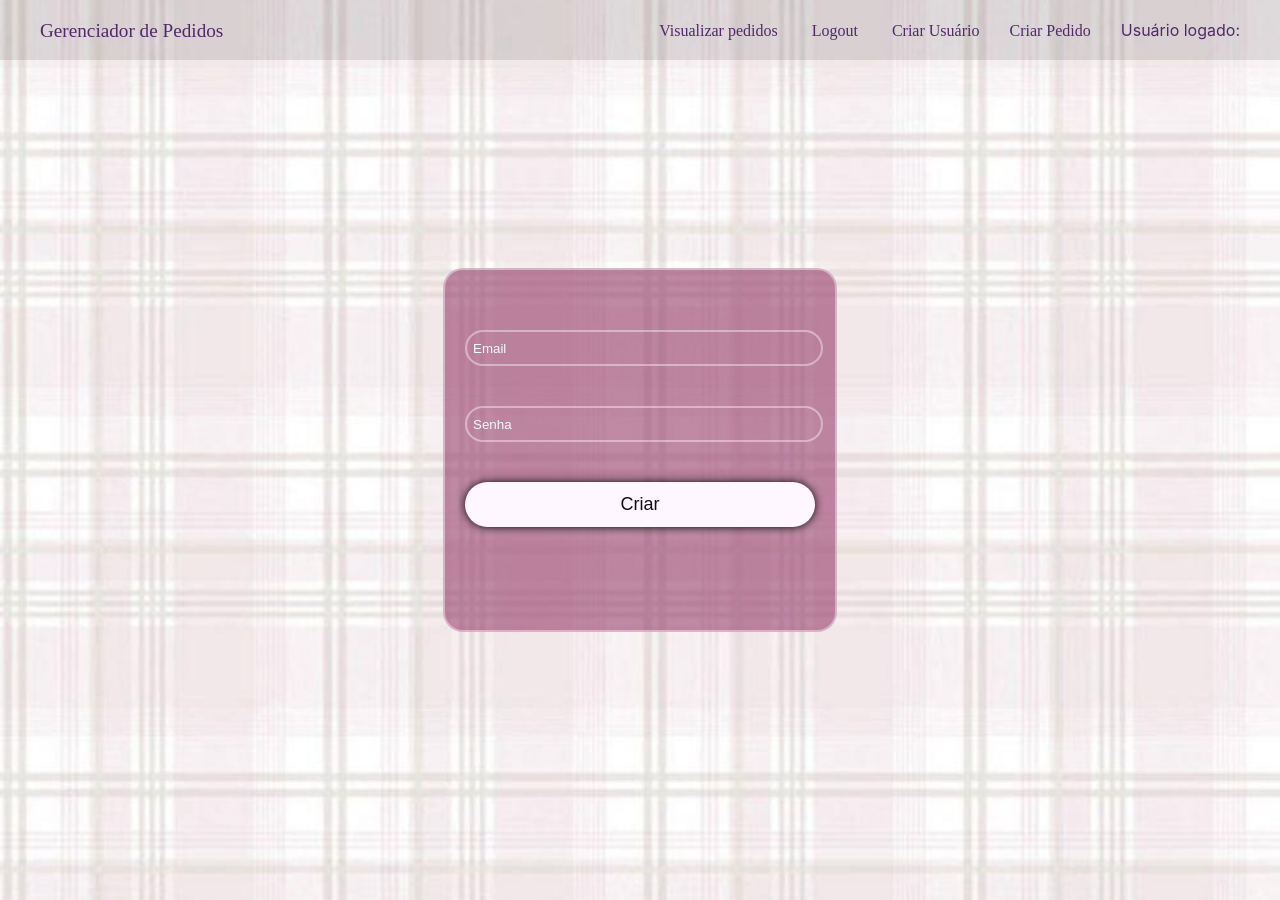
Test: LoginFormRendering › Testa a Submissão do formulário com senha incorreta
Type "teste@teste.com" into the field with placeholder "Email" at (644, 348), box [465,330,823,366]
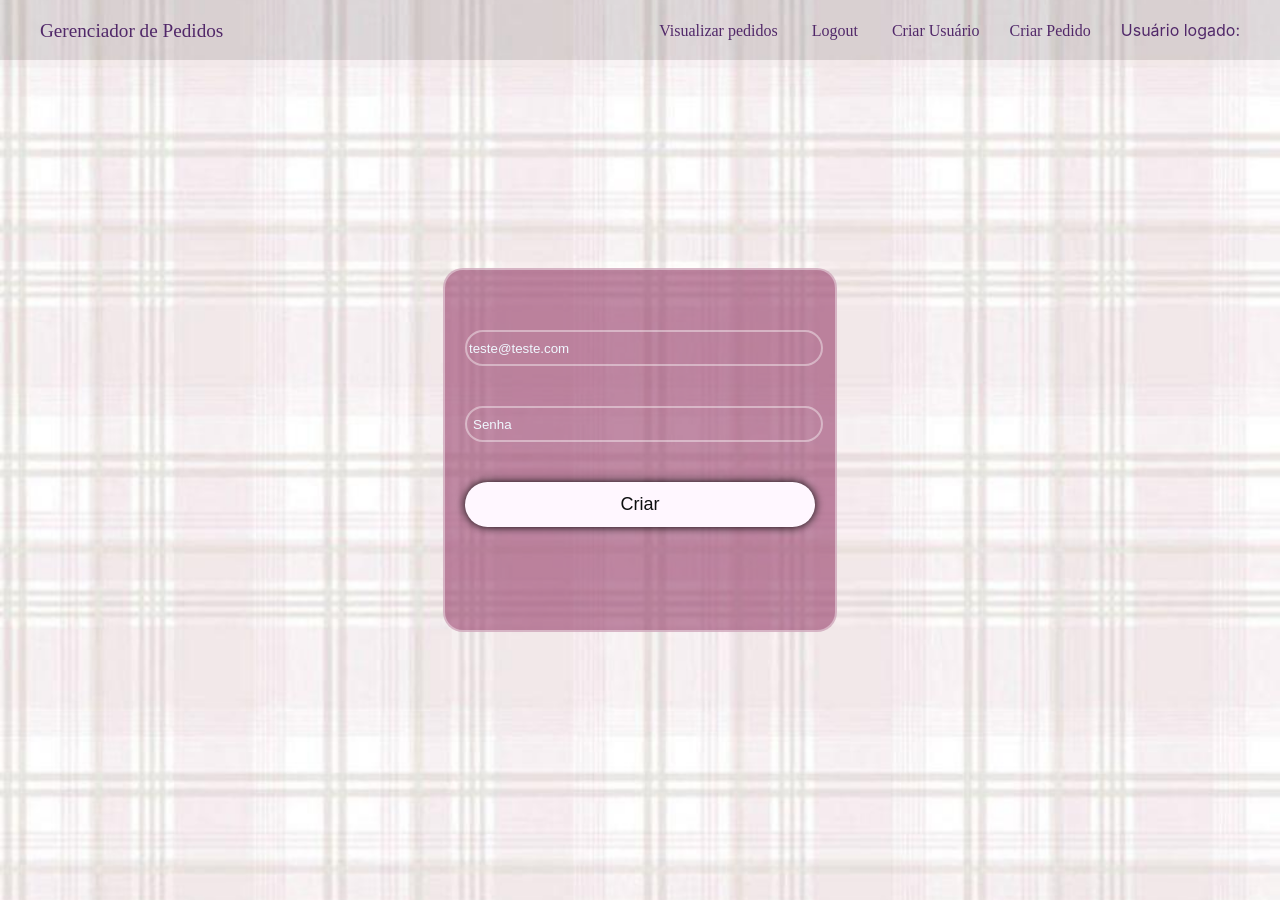
Type "wrongpassword" into the field with placeholder "Senha" at (644, 424), box [465,406,823,442]
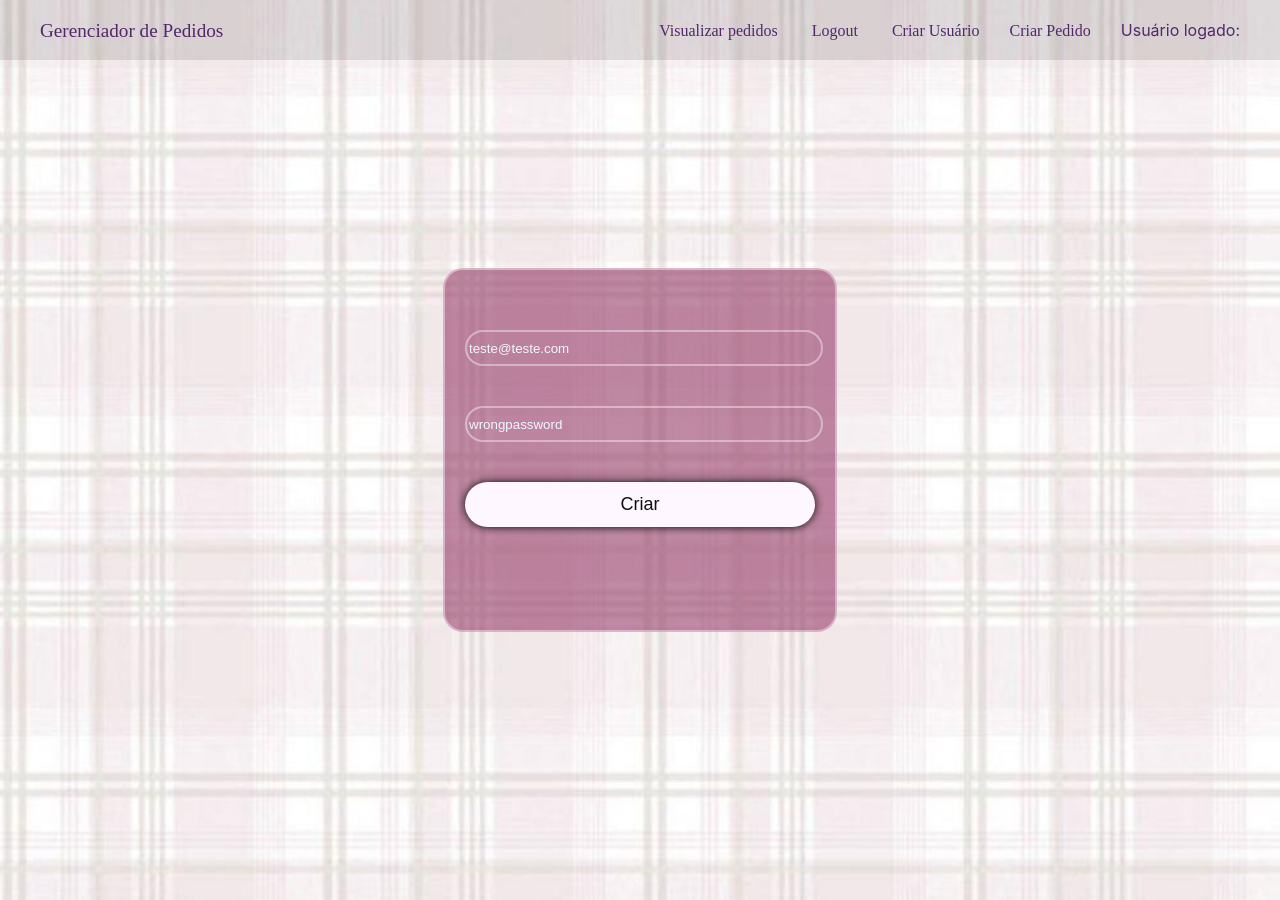
Click the button "Criar" at (640, 504), box [465,482,815,527]
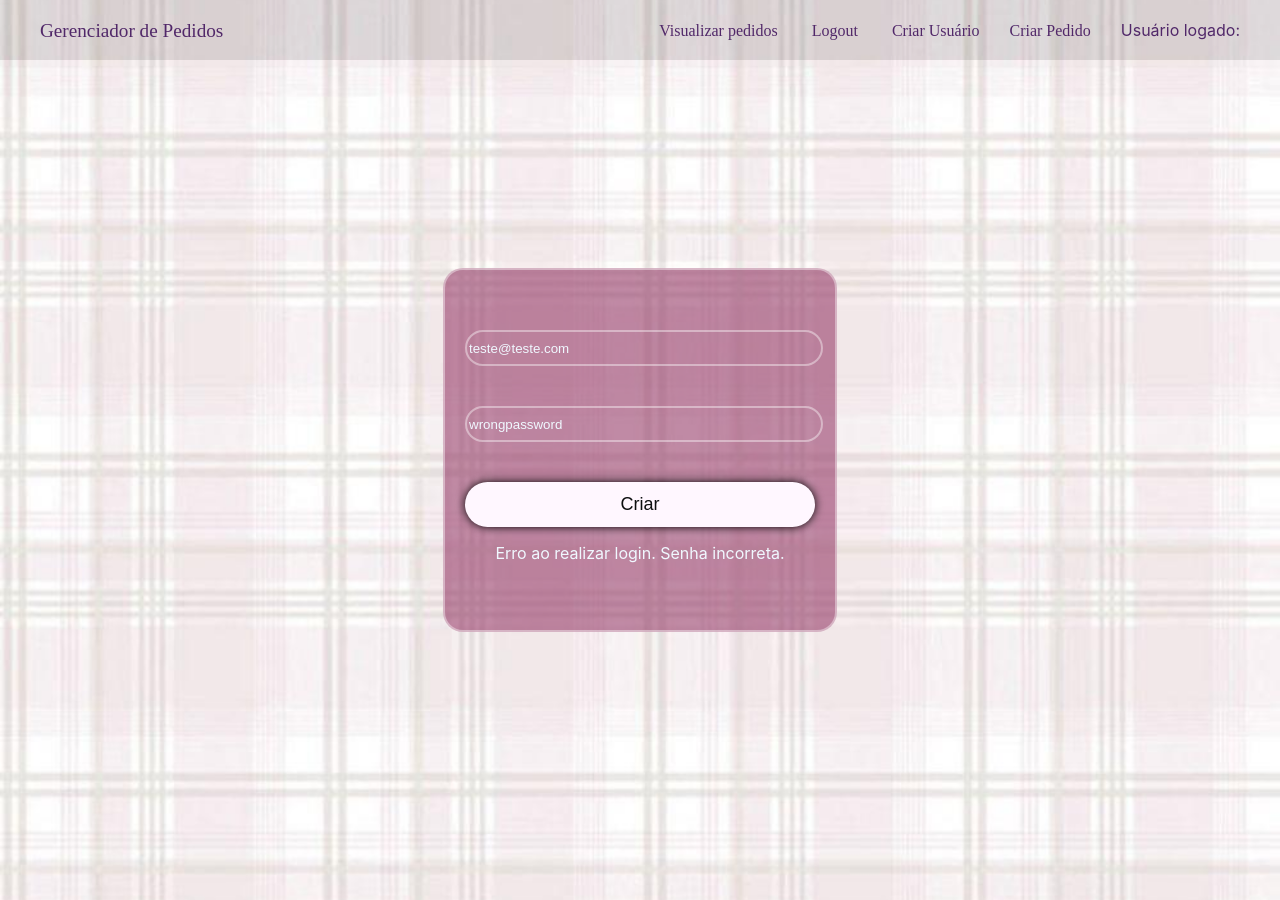
Now the text "Erro ao realizar login. Senha incorreta." is shown, box [495,543,785,563]
